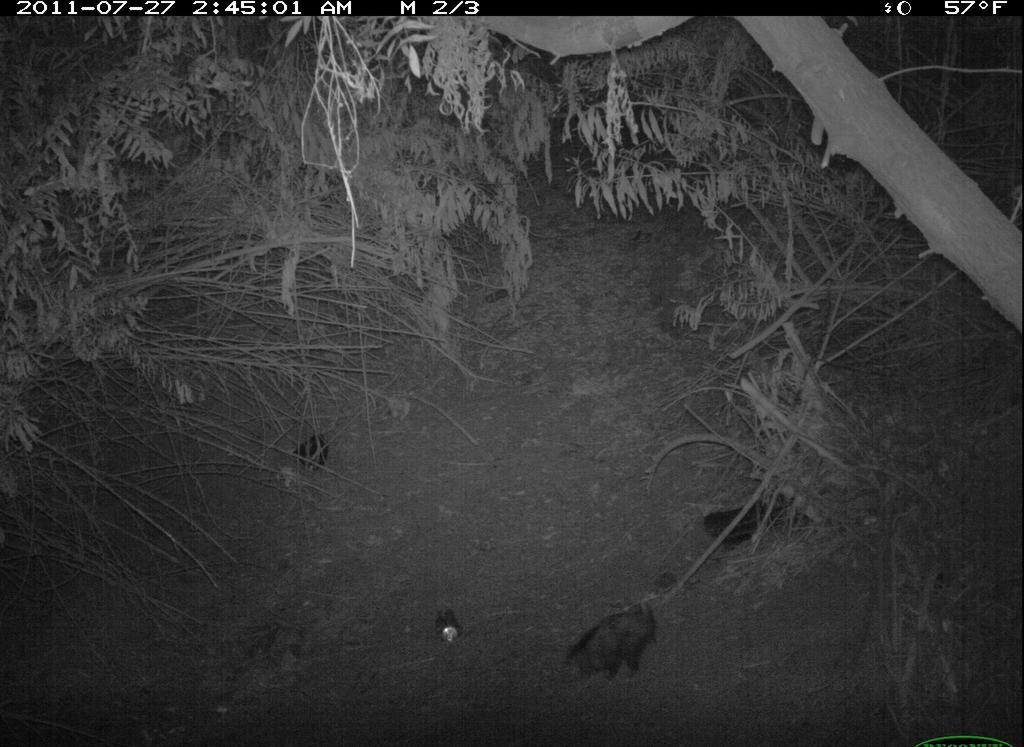opossum: (551, 582, 674, 697)
